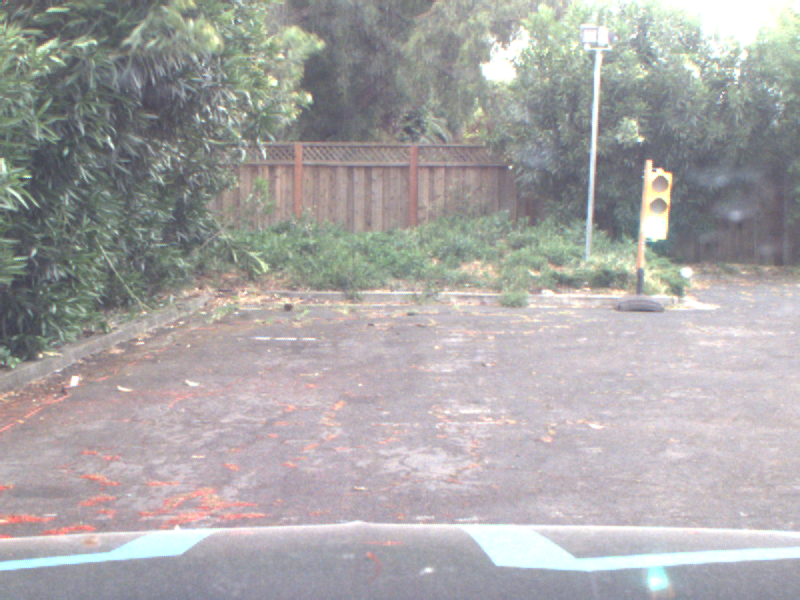Green: (643, 169, 672, 240)
